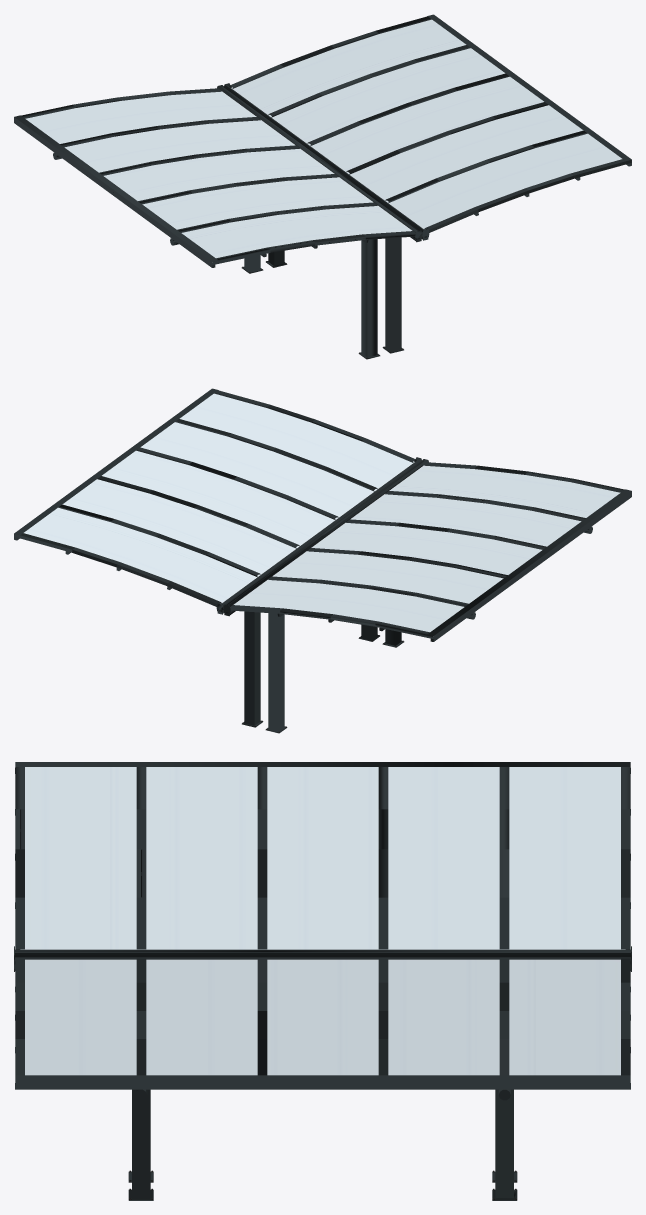
3 renders of one model, top to bottom at view 1: azimuth 30°, elevation 25°; view 2: azimuth 150°, elevation 25°; view 3: azimuth 270°, elevation 25°, orthographic. The views are drawn at different scales.
Visible parts, largest first — view 1: priximbattable_netabris_de_voiture355_carport_aluminium_2_po; view 2: priximbattable_netabris_de_voiture355_carport_aluminium_2_po; view 3: priximbattable_netabris_de_voiture355_carport_aluminium_2_po.
Part boxes in pixels (x1,y1,x2,y2): priximbattable_netabris_de_voiture355_carport_aluminium_2_po: (14,14,631,359); priximbattable_netabris_de_voiture355_carport_aluminium_2_po: (14,388,631,733); priximbattable_netabris_de_voiture355_carport_aluminium_2_po: (14,762,631,1200).
Size of the model in its own units: 621 by 242 by 510.
1 material, 1 textured.
